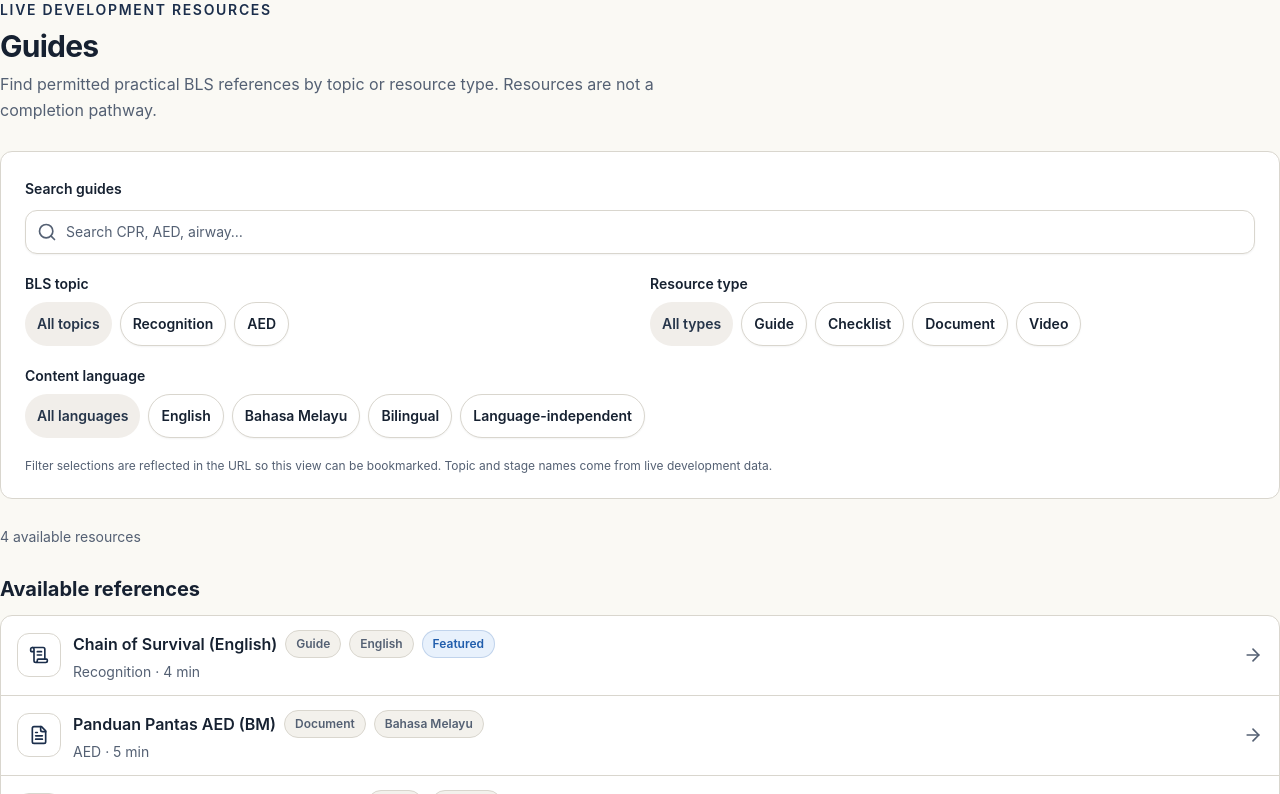
Test: ResourceLibraryPage live filtering and URL normalization › filters live learner resources with search query
Expected: the link "Chain of Survival" is shown, [1,616,1279,696]
In the search field labelled "Search guides": (640, 232) [25,210,1255,254], type "Panduan"
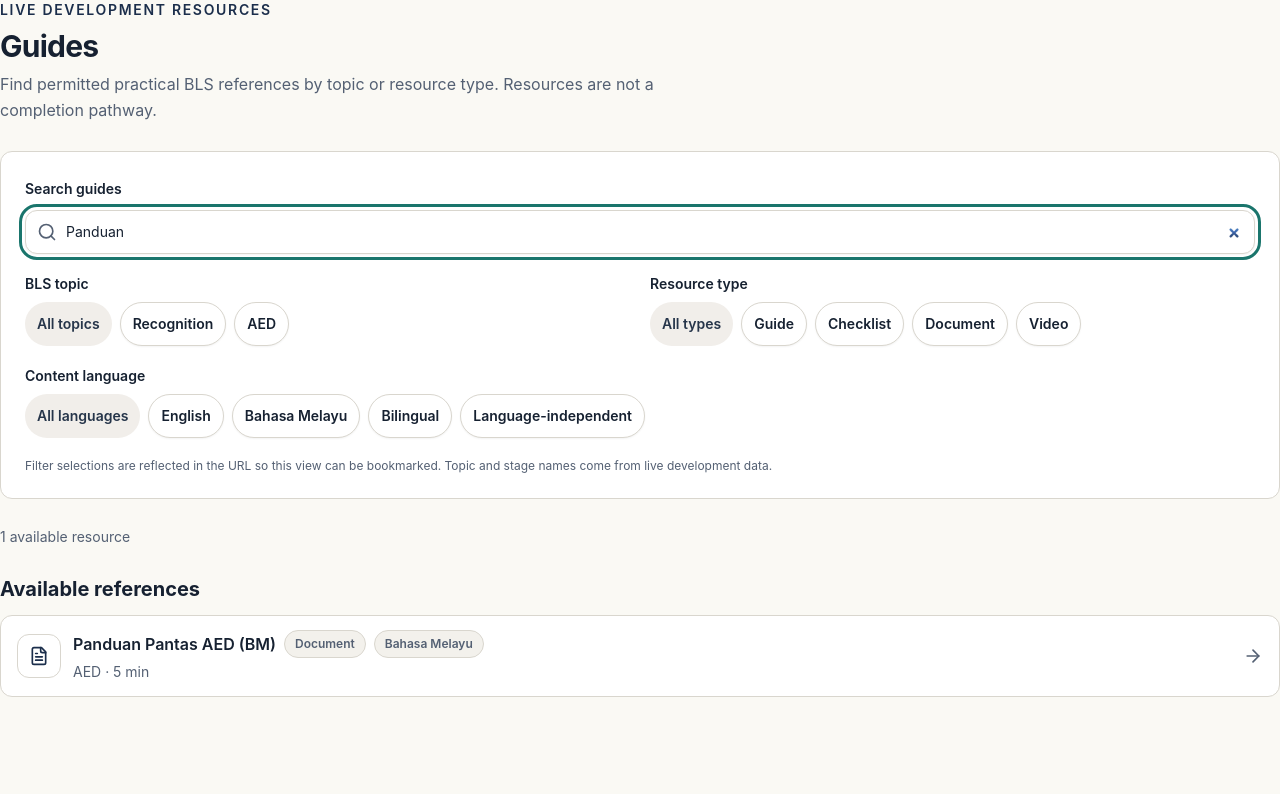
Expected: the link "Panduan Pantas AED (BM) Document Bahasa Melayu AED · 5 min" is shown, [1,616,1279,696]
Result: the link "Chain of Survival" is gone
Result: the text "1 available resource" is shown at [0,528,130,545]
